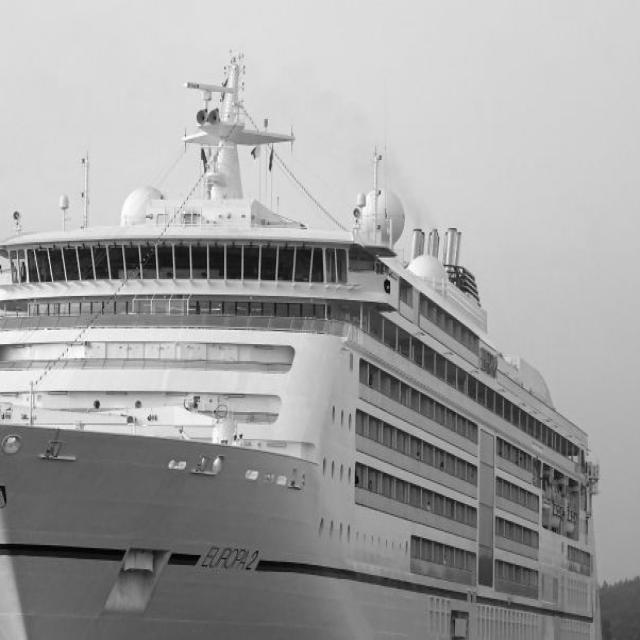cruises: (1, 42, 612, 640)
